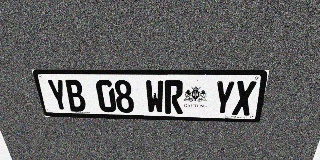0: (95, 80, 117, 112)
8: (113, 80, 134, 113)
B: (63, 79, 87, 112)
R: (164, 80, 183, 114)
W: (145, 80, 164, 114)
X: (232, 81, 257, 116)
Y: (213, 81, 236, 115), (46, 79, 70, 111)
